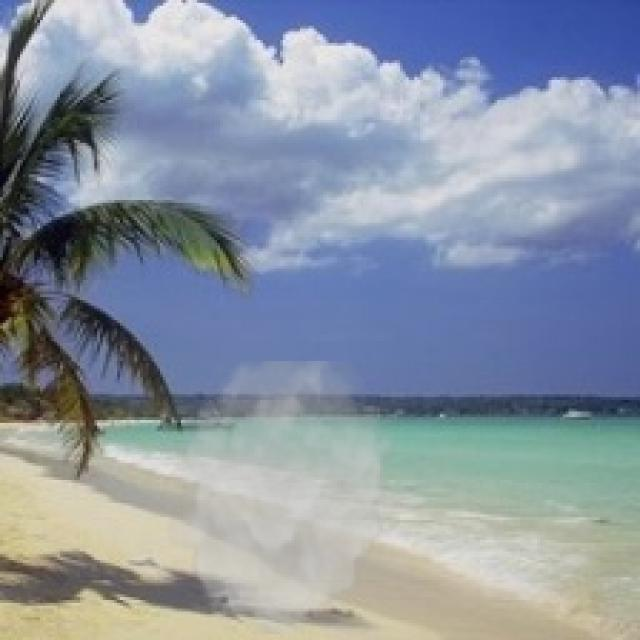smoke: (166, 360, 406, 634)
